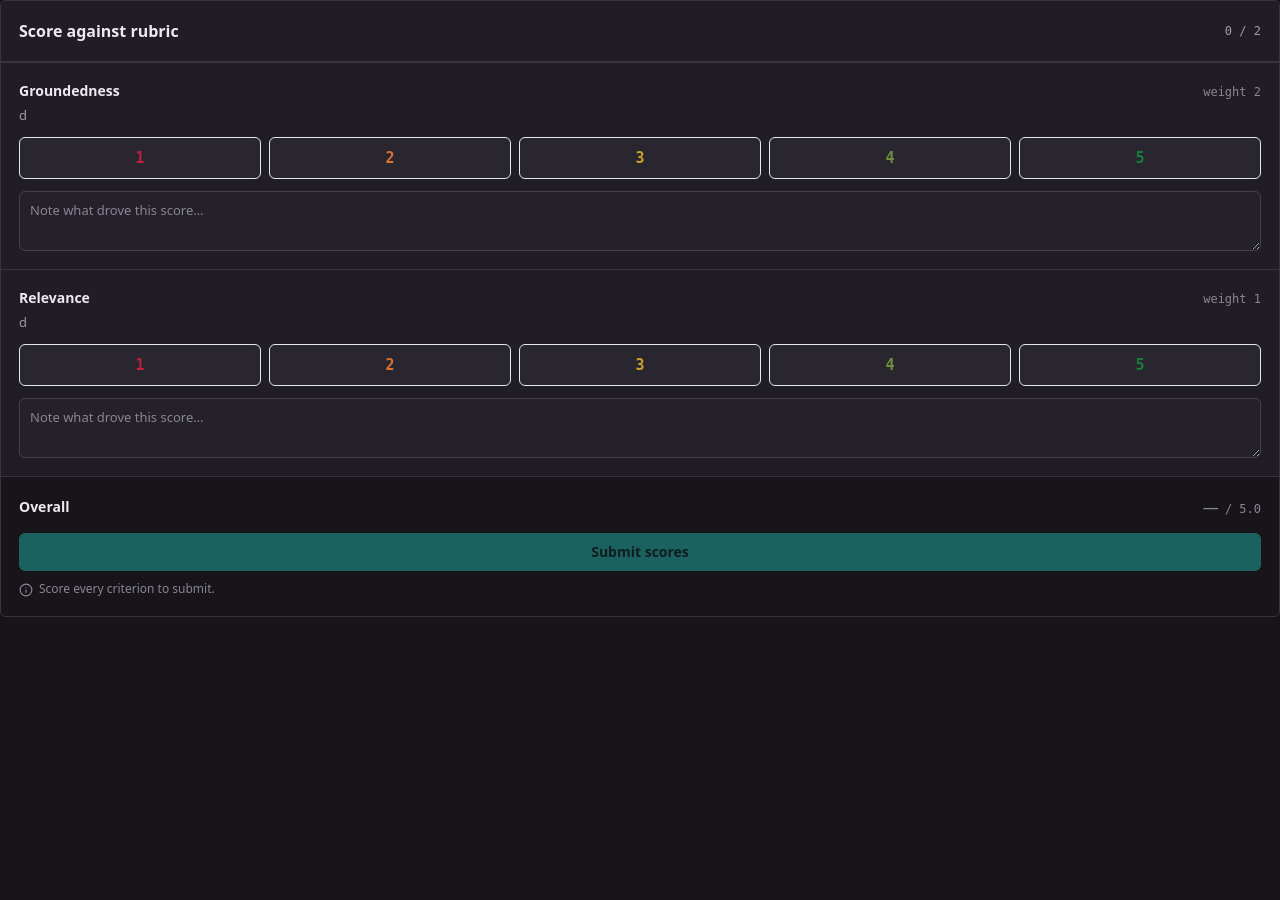
Test: GradingForm › submit is disabled until every criterion is scored
Expected: the button "Submit scores" is disabled, [19, 533, 1261, 571]
Note: Score only the first criterion → still disabled.
What coordinates should you click on to do the following:
click the 1st radio button labelled "4"
I would click on:
 (890, 158)
Its box is [769, 137, 1011, 179].
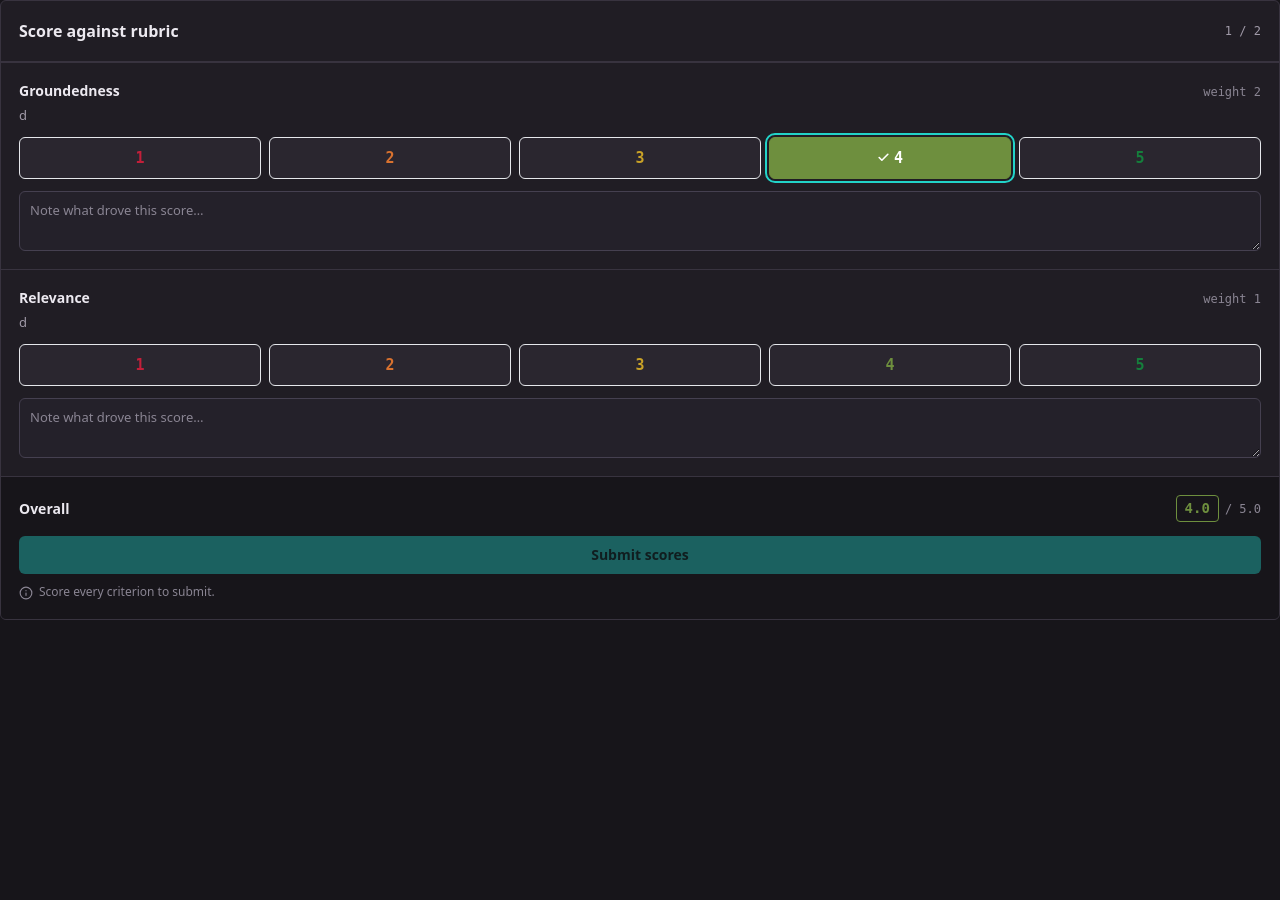
Expected: the button "Submit scores" is disabled, [19, 536, 1261, 574]
What coordinates should you click on to do the following:
click the 2nd radio button labelled "5"
I would click on:
 (1140, 365)
Its box is [1019, 344, 1261, 386].
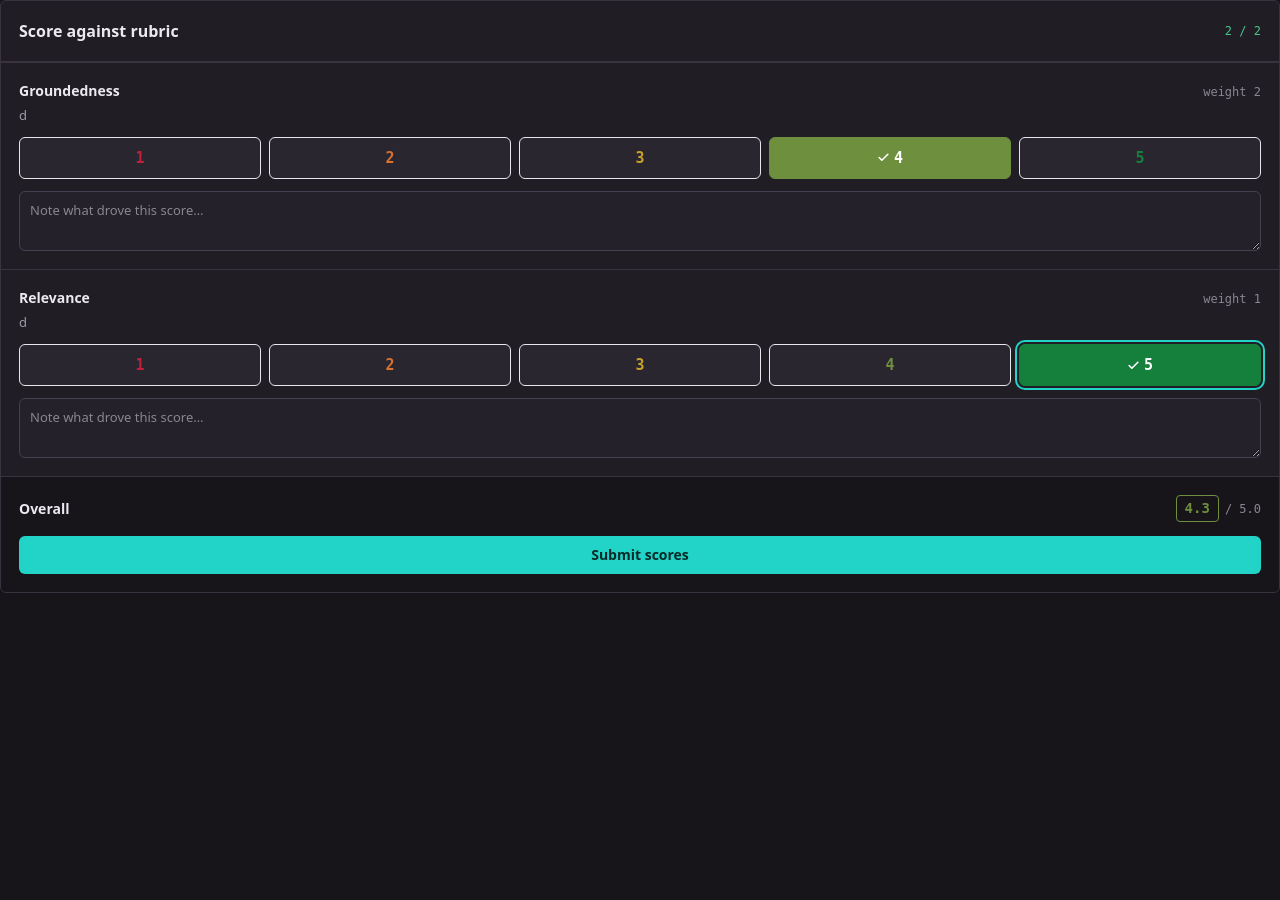
Expected: the button "Submit scores" is enabled, [19, 536, 1261, 574]
